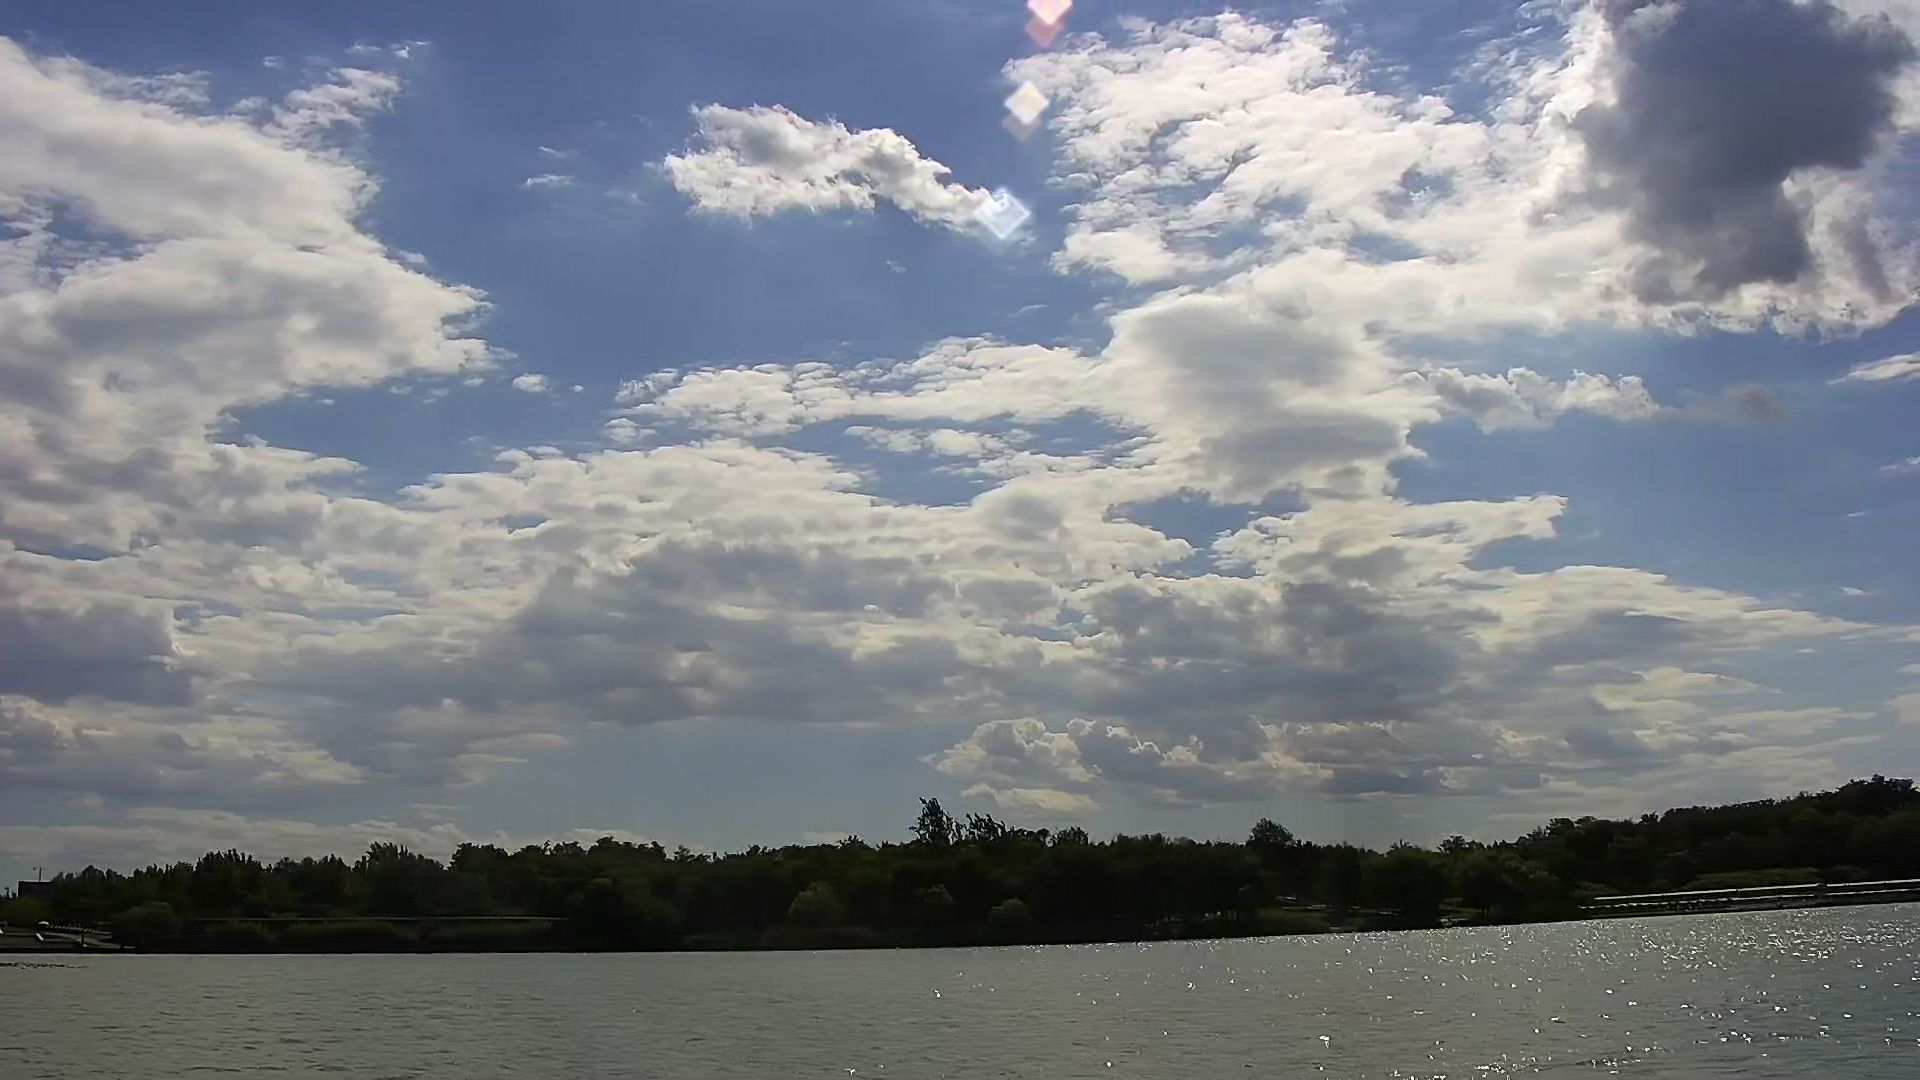harbor: (1575, 865, 1920, 919)
